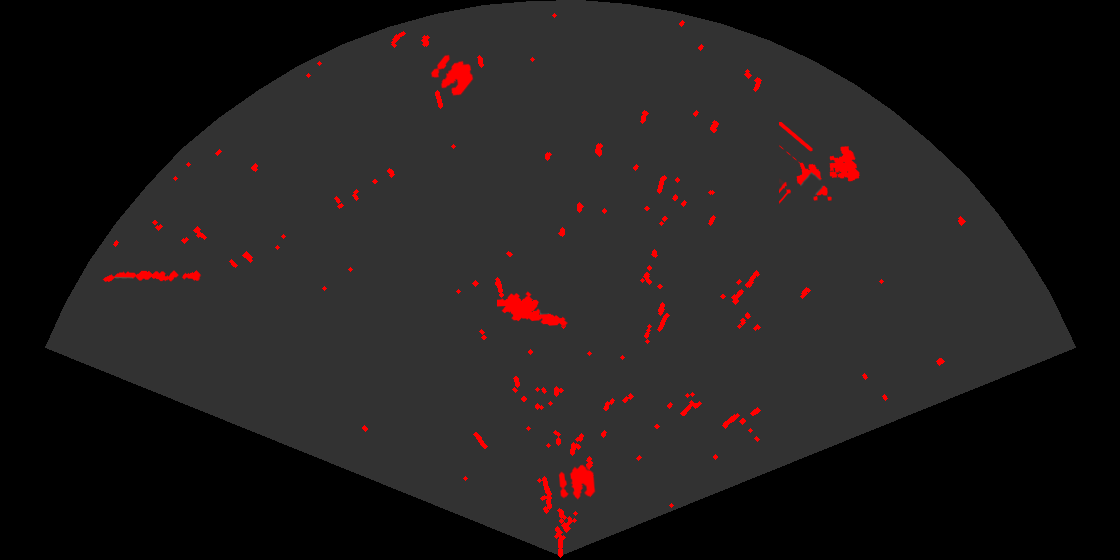ball: (429, 53, 475, 98), (557, 463, 597, 501)
cage: (779, 122, 861, 205)
chain: (102, 269, 202, 284)
frogman: (497, 290, 568, 327)
